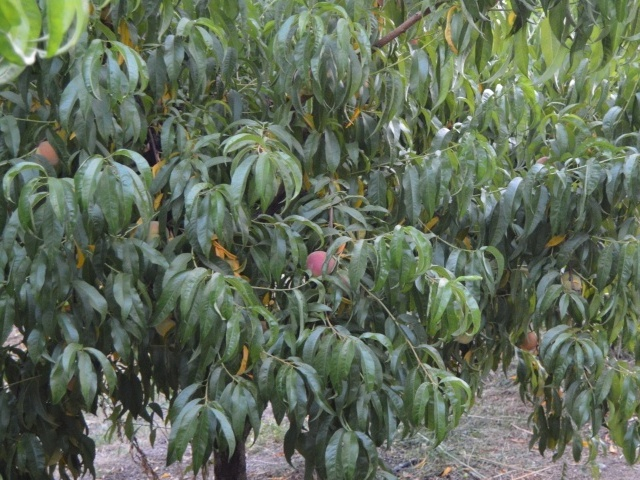peach: (302, 247, 337, 281), (32, 137, 59, 168), (518, 327, 543, 353)
